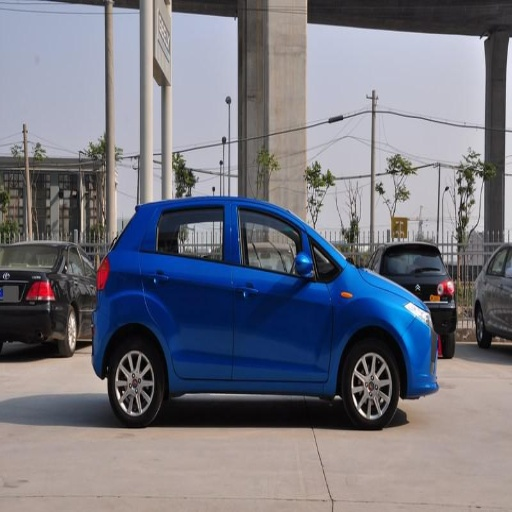back_right_door: (142, 201, 234, 379)
front_right_door: (232, 203, 336, 382)
